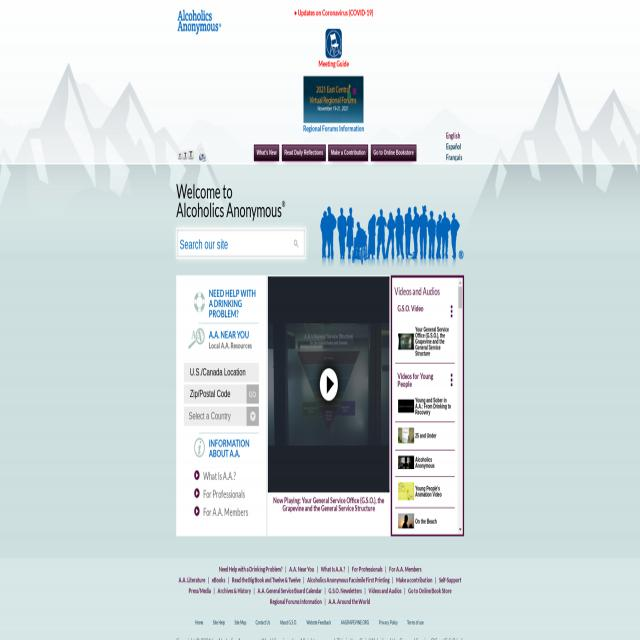button: (268, 276, 390, 492), (304, 76, 364, 123), (178, 10, 222, 34), (371, 144, 416, 160), (282, 144, 326, 160), (328, 144, 368, 160), (321, 370, 338, 400), (326, 28, 342, 59), (188, 327, 205, 351), (254, 144, 279, 160), (398, 482, 414, 500), (193, 292, 206, 313), (193, 437, 206, 458), (398, 427, 414, 443), (247, 407, 260, 426), (398, 334, 414, 349), (398, 513, 414, 528), (246, 384, 258, 403), (398, 456, 414, 469), (398, 400, 414, 412), (178, 150, 195, 160), (198, 148, 206, 163), (459, 286, 463, 308), (194, 470, 200, 480), (194, 488, 200, 498), (194, 506, 200, 516), (459, 526, 463, 534), (459, 279, 462, 287)
field: (178, 230, 304, 257), (184, 362, 259, 382), (184, 384, 247, 404), (184, 406, 246, 426)
